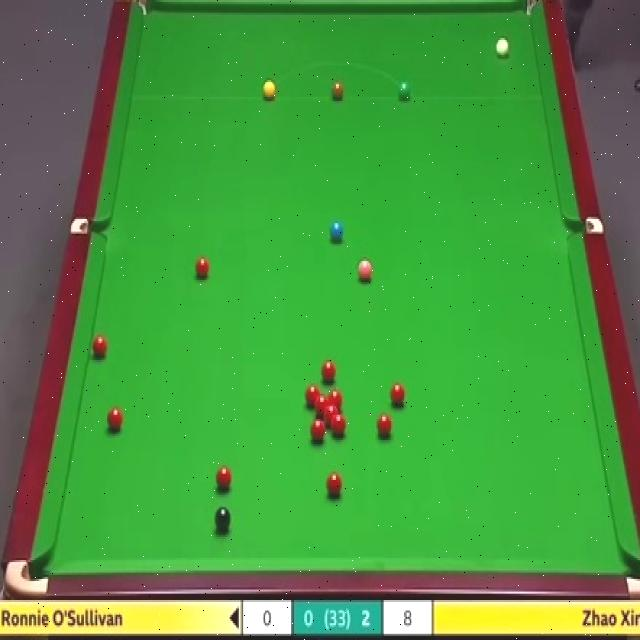black-ball: (214, 507, 232, 536)
blue-ball: (329, 218, 344, 244)
brown-ball: (331, 78, 344, 100)
green-ball: (397, 82, 411, 103)
pink-ball: (358, 258, 373, 282)
red-ball: (375, 412, 394, 441), (389, 382, 407, 412), (90, 335, 107, 362), (107, 404, 123, 432), (216, 465, 233, 491), (326, 471, 342, 498), (321, 360, 336, 386), (310, 418, 325, 444), (305, 383, 319, 408), (332, 413, 346, 437), (196, 256, 210, 278), (315, 394, 328, 414), (329, 390, 342, 410), (325, 405, 338, 424)
white-ball: (494, 35, 510, 62)
yellow-ball: (262, 80, 276, 102)
